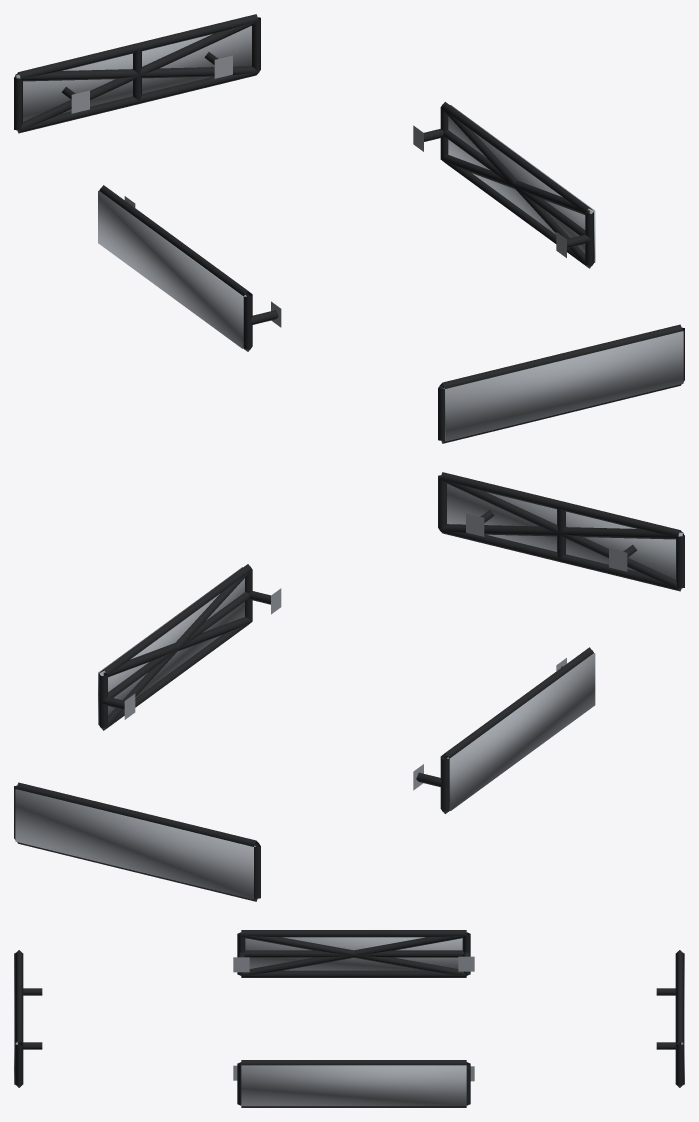
The model's file is ashcombe_arisco_protecao.glb.
3 views of the same model, one above another, from view 1: azimuth 30°, elevation 25°; view 2: azimuth 150°, elevation 25°; view 3: azimuth 270°, elevation 25° (orthographic). The views are drawn at different scales.
Parts seen in each view (by area): view 1: Protection_front_Level3_Details, Protection_left_Level3_Details, Protection_rear_Level1_Details, Protection_rear_Level3_Details, Protection_right_Level1_Details, Protection_rear_Level2_Details, Protection_right_Level2_Details, Protection_right_Level3_Details, Protection_front_Level1_Details, Protection_left_Level1_Details; view 2: Protection_rear_Level3_Details, Protection_left_Level3_Details, Protection_front_Level1_Details, Protection_front_Level3_Details, Protection_front_Level2_Details, Protection_right_Level1_Details, Protection_right_Level2_Details, Protection_right_Level3_Details, Protection_rear_Level1_Details, Protection_left_Level1_Details; view 3: Protection_right_Level3_Details, Protection_left_Level2_Details, Protection_left_Level1_Details, Protection_left_Level3_Details, Protection_right_Level1_Details, Protection_rear_Level1_Details, Protection_front_Level1_Details.
Boxes of the visible parts, x1=… form: Protection_front_Level3_Details: x1=443, y1=331, x2=683, y2=441; Protection_left_Level3_Details: x1=98, y1=191, x2=246, y2=348; Protection_rear_Level1_Details: x1=14, y1=14, x2=260, y2=133; Protection_rear_Level3_Details: x1=15, y1=26, x2=251, y2=121; Protection_right_Level1_Details: x1=413, y1=102, x2=593, y2=268; Protection_rear_Level2_Details: x1=16, y1=21, x2=258, y2=132; Protection_right_Level2_Details: x1=441, y1=108, x2=593, y2=267; Protection_right_Level3_Details: x1=448, y1=105, x2=595, y2=262; Protection_front_Level1_Details: x1=438, y1=324, x2=684, y2=443; Protection_left_Level1_Details: x1=99, y1=185, x2=281, y2=351; Protection_rear_Level3_Details: x1=15, y1=789, x2=255, y2=899; Protection_left_Level3_Details: x1=446, y1=653, x2=595, y2=810; Protection_front_Level1_Details: x1=438, y1=472, x2=684, y2=591; Protection_front_Level3_Details: x1=447, y1=484, x2=683, y2=579; Protection_front_Level2_Details: x1=440, y1=479, x2=682, y2=590; Protection_right_Level1_Details: x1=99, y1=564, x2=281, y2=730; Protection_right_Level2_Details: x1=100, y1=570, x2=252, y2=730; Protection_right_Level3_Details: x1=98, y1=567, x2=244, y2=724; Protection_rear_Level1_Details: x1=14, y1=782, x2=260, y2=901; Protection_left_Level1_Details: x1=413, y1=647, x2=593, y2=813; Protection_right_Level3_Details: x1=241, y1=1065, x2=466, y2=1106; Protection_left_Level2_Details: x1=241, y1=933, x2=466, y2=975; Protection_left_Level1_Details: x1=233, y1=930, x2=474, y2=977; Protection_left_Level3_Details: x1=245, y1=937, x2=462, y2=970; Protection_right_Level1_Details: x1=233, y1=1060, x2=474, y2=1107; Protection_rear_Level1_Details: x1=656, y1=950, x2=683, y2=1087; Protection_front_Level1_Details: x1=15, y1=950, x2=42, y2=1087.
Size of the model in its own units: 2.13 by 0.354 by 4.5.
Materials: 1 (1 with a texture image).
